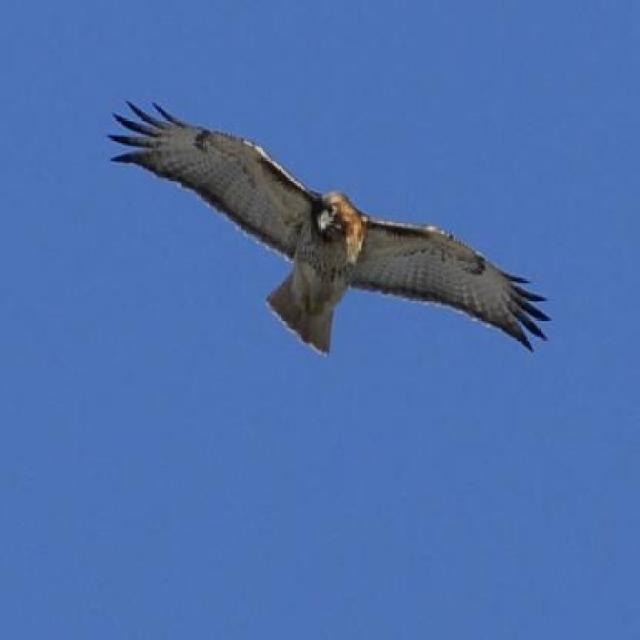Eagle: (114, 94, 547, 357)
